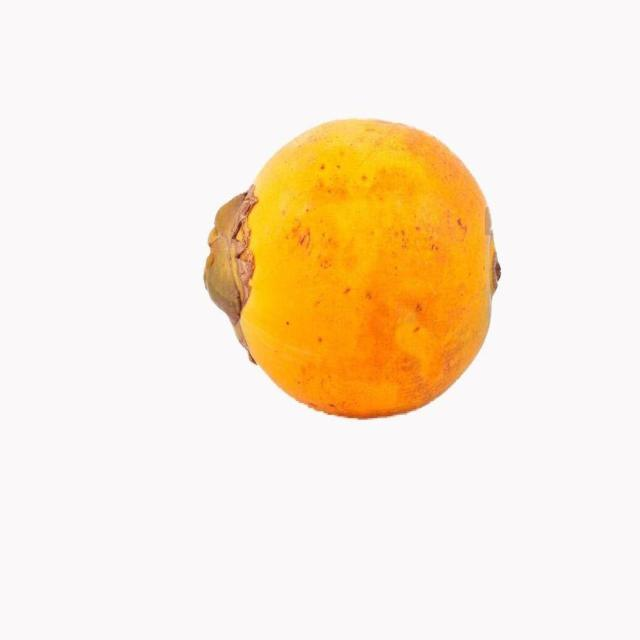good: (202, 118, 502, 422)
